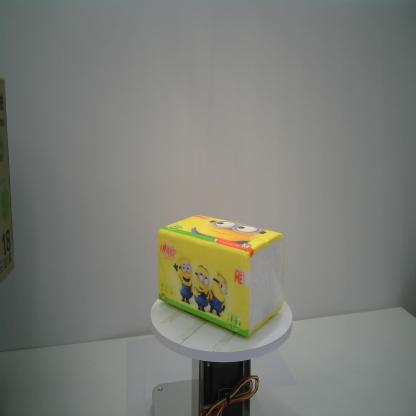Tissue: (156, 214, 287, 342)
